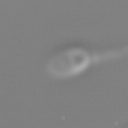normal: (92, 38, 128, 61)
